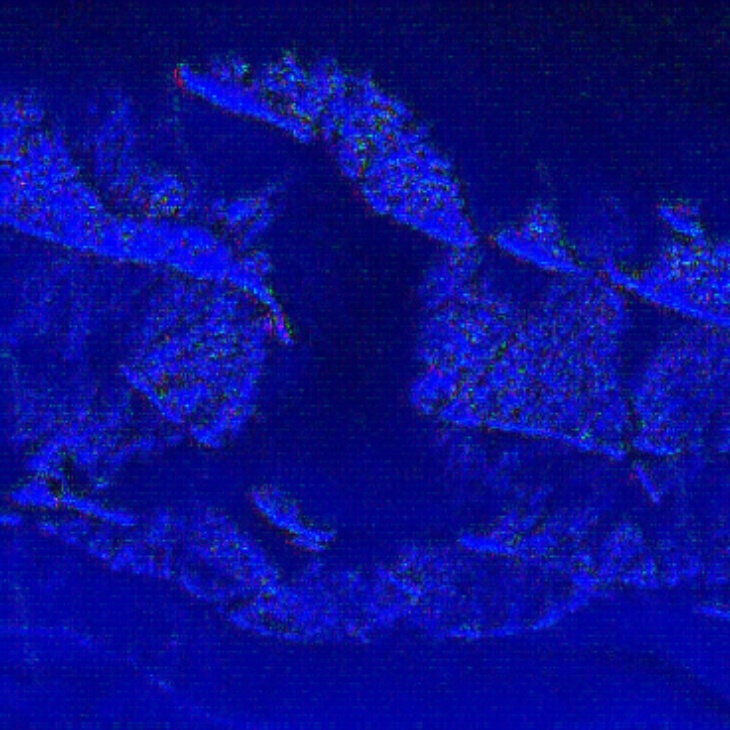rip_current: (162, 94, 479, 519)
